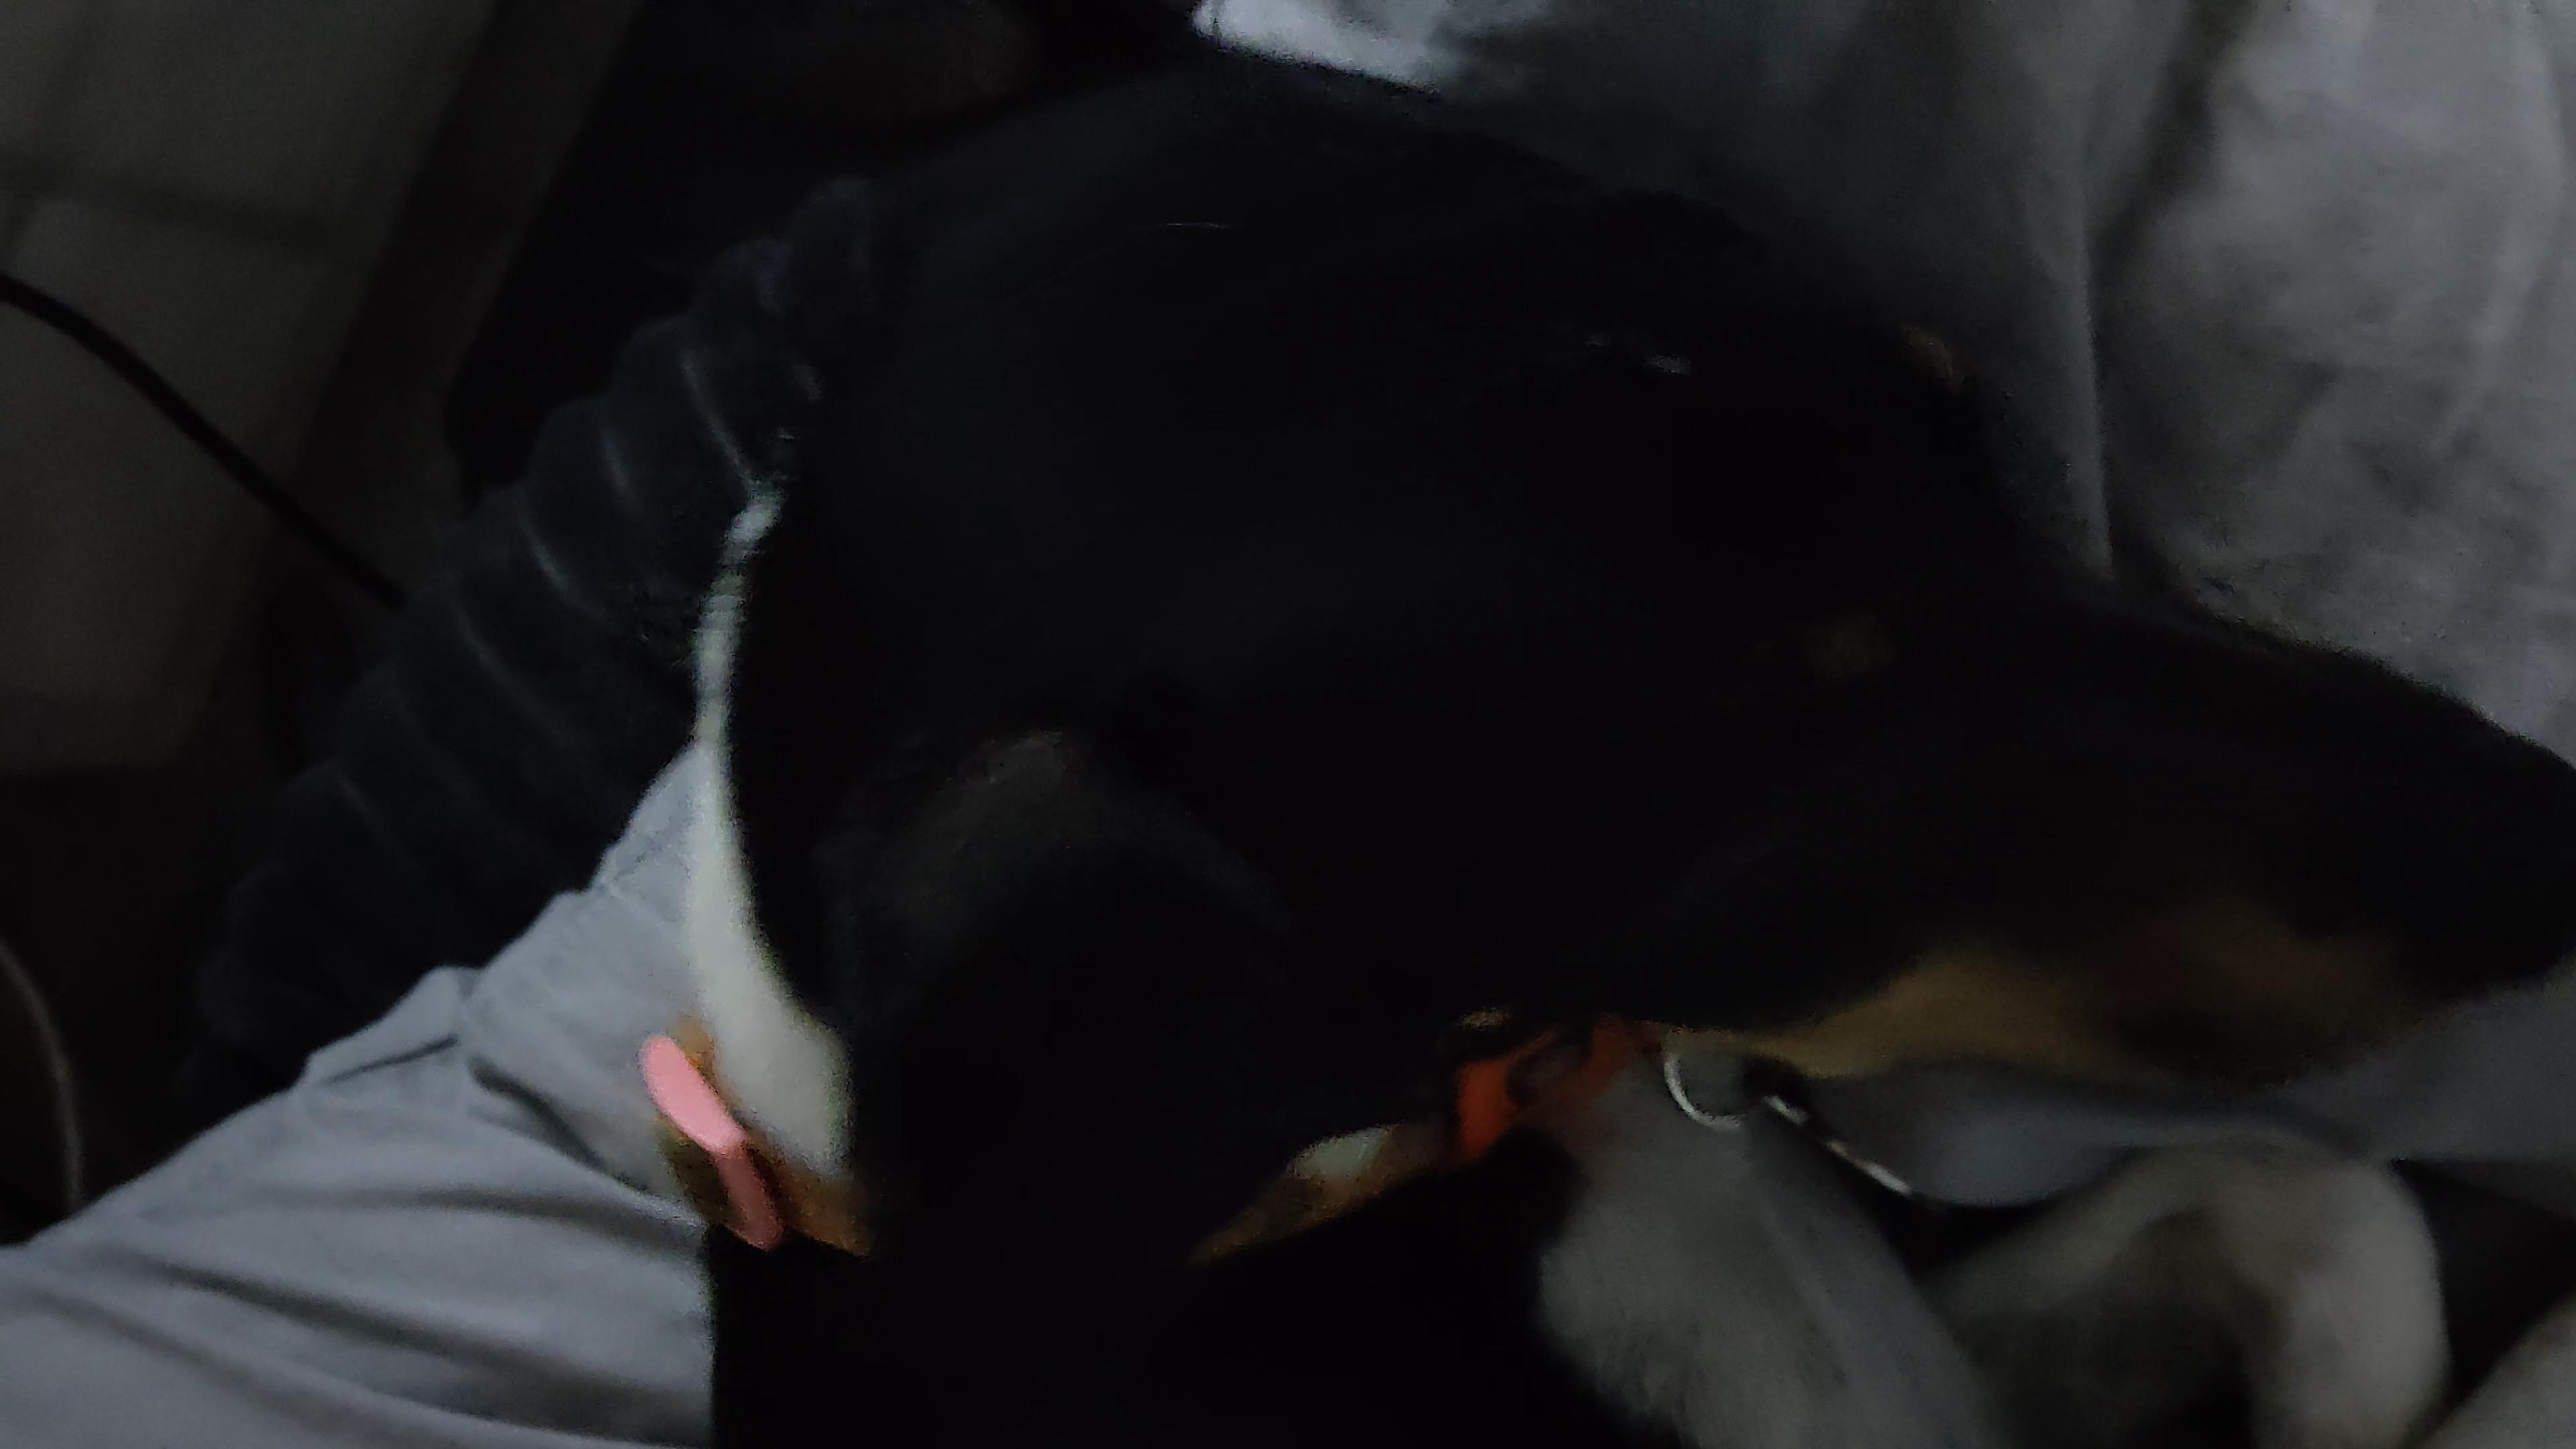Dog: (594, 0, 2576, 1449)
